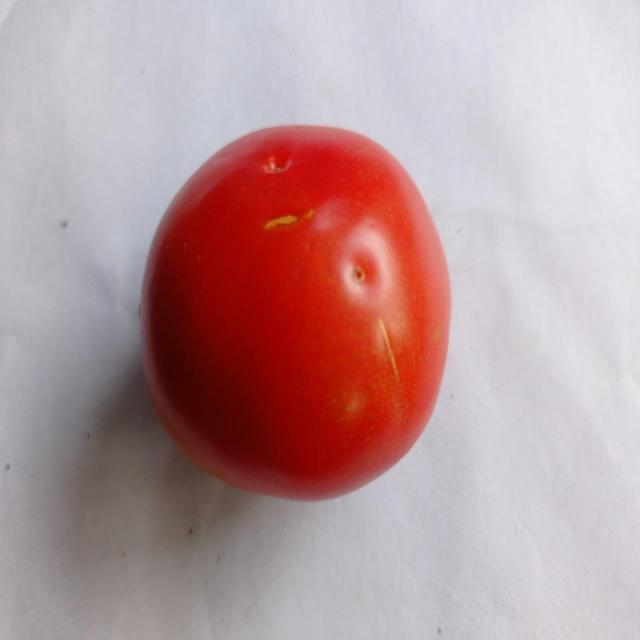Tomato: (137, 119, 455, 503)
